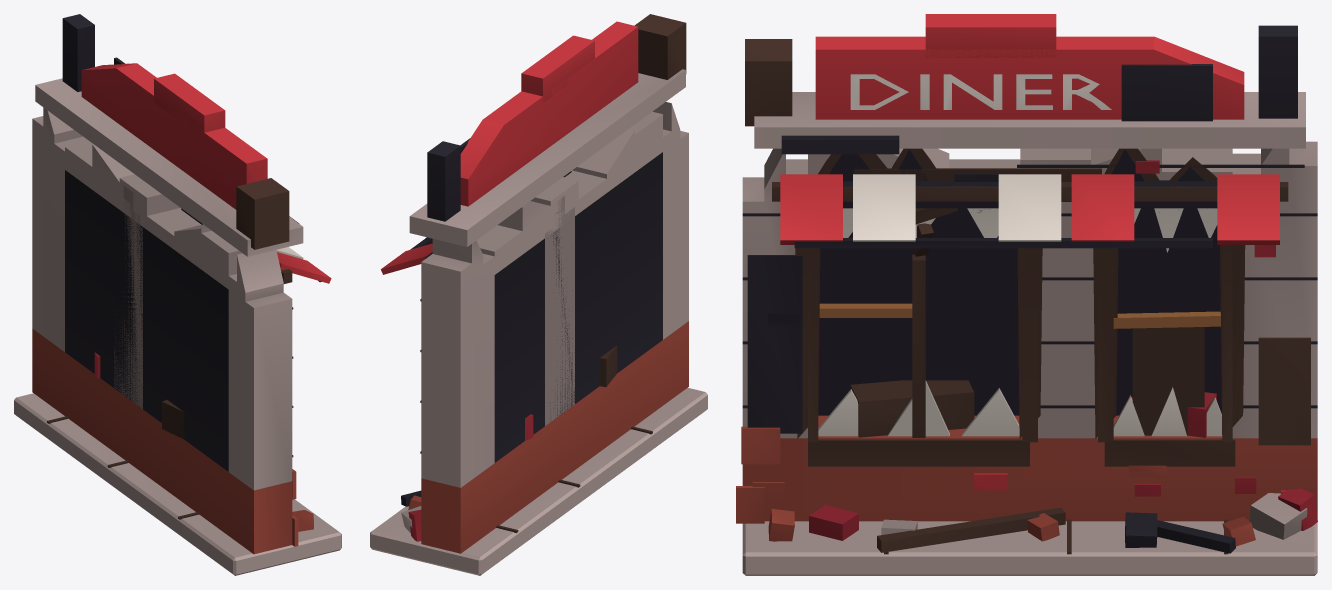
Rendered from decay.burned-facade.diner.glb.
3 renders of one model, left to right at view 1: azimuth 30°, elevation 25°; view 2: azimuth 150°, elevation 25°; view 3: azimuth 270°, elevation 25°, orthographic. The views are drawn at different scales.
Size of the model in its own units: 1.28 by 4.39 by 4.45.
